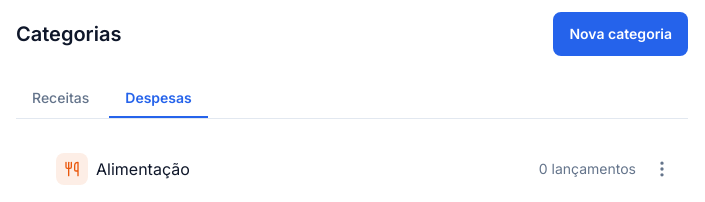
Test: Categorias › troca de aba ao clicar
This screenshot has width=705, height=202.
Check: the text "Alimentação" is shown, box [96,159,190,179]
Click the tab "Receitas" at (61, 99), box [16,80,105,118]
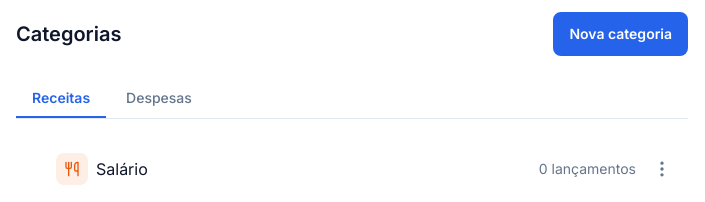
Check: the text "Salário" is shown, box [96,159,148,179]
Check: the text "Alimentação" is gone
